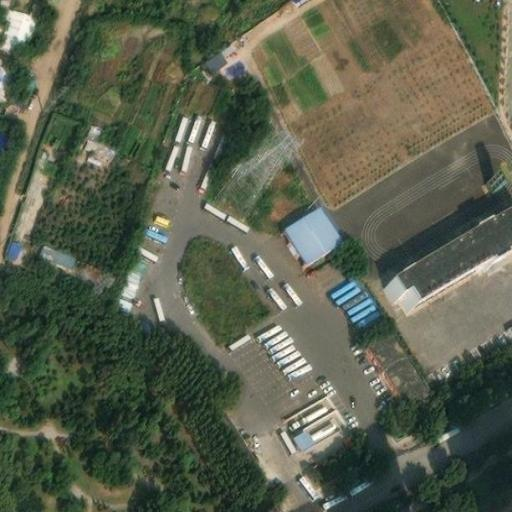building: (381, 201, 512, 304), (361, 322, 432, 406), (280, 200, 341, 259), (285, 406, 341, 453), (111, 256, 147, 312), (75, 130, 118, 168), (0, 6, 35, 51), (33, 238, 76, 269), (291, 466, 322, 499), (196, 45, 228, 75), (0, 236, 24, 263), (0, 57, 10, 93)
